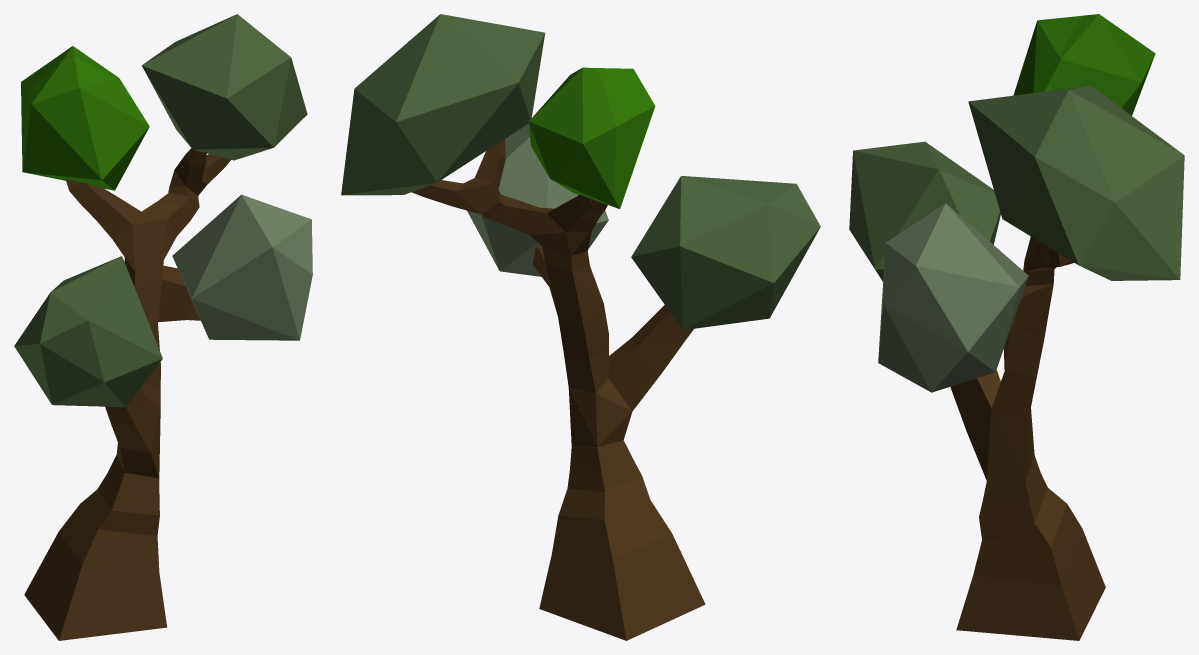
The model's file is tree6.fbx.
3 renders of one model, left to right at view 1: azimuth 30°, elevation 25°; view 2: azimuth 150°, elevation 25°; view 3: azimuth 270°, elevation 25°, orthographic. The views are drawn at different scales.
Visible parts, largest first — view 1: Plane.006; view 2: Plane.006; view 3: Plane.006.
Boxes of the visible parts, <box> form: Plane.006: <box>14,14,312,640</box>; Plane.006: <box>341,14,820,640</box>; Plane.006: <box>849,14,1184,640</box>.
Bounding box in the file's own units: 925 × 1353 × 679.
